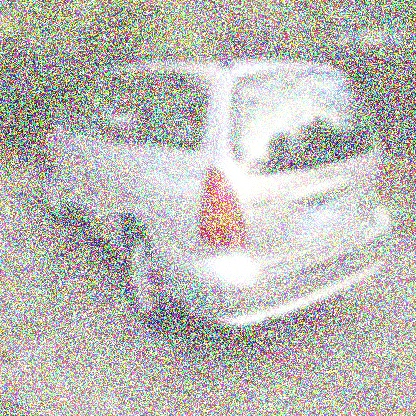Vehicle: (40, 49, 396, 336)
